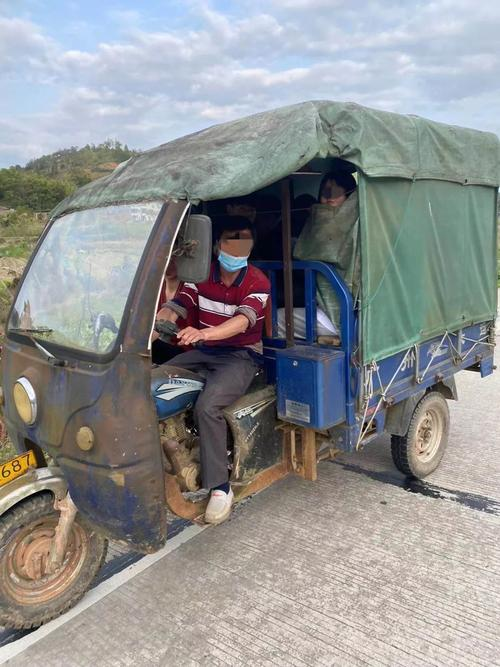driver: (147, 201, 260, 512)
overloading: (15, 87, 491, 620)
passenger: (303, 164, 362, 213)
